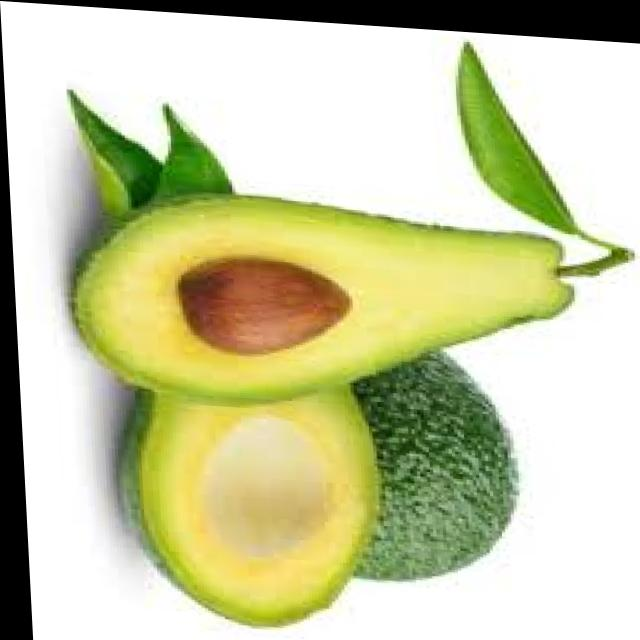Bo: (60, 27, 640, 414), (109, 384, 386, 640), (351, 344, 531, 578)
